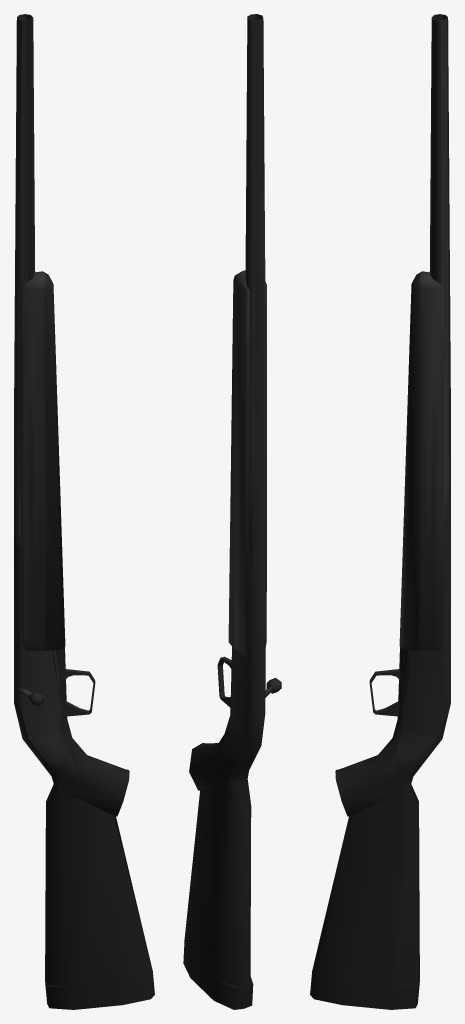
Rendered from RemingtonM24.fbx.
3 views of the same model, side by side, from view 1: azimuth 90°, elevation 25°; view 2: azimuth 210°, elevation 25°; view 3: azimuth 270°, elevation 25° (orthographic).
Visible parts, largest first — view 1: node_a32bd1e5_c66f_48a8_96b3_78938085fd65_mesh0; view 2: node_a32bd1e5_c66f_48a8_96b3_78938085fd65_mesh0; view 3: node_a32bd1e5_c66f_48a8_96b3_78938085fd65_mesh0.
Boxes of the visible parts, x1=… form: node_a32bd1e5_c66f_48a8_96b3_78938085fd65_mesh0: x1=14, y1=14, x2=154, y2=1009; node_a32bd1e5_c66f_48a8_96b3_78938085fd65_mesh0: x1=183, y1=14, x2=281, y2=1009; node_a32bd1e5_c66f_48a8_96b3_78938085fd65_mesh0: x1=310, y1=14, x2=450, y2=1009.
Bounding box in the file's own units: 0.0337 × 0.6775 × 0.0877.
